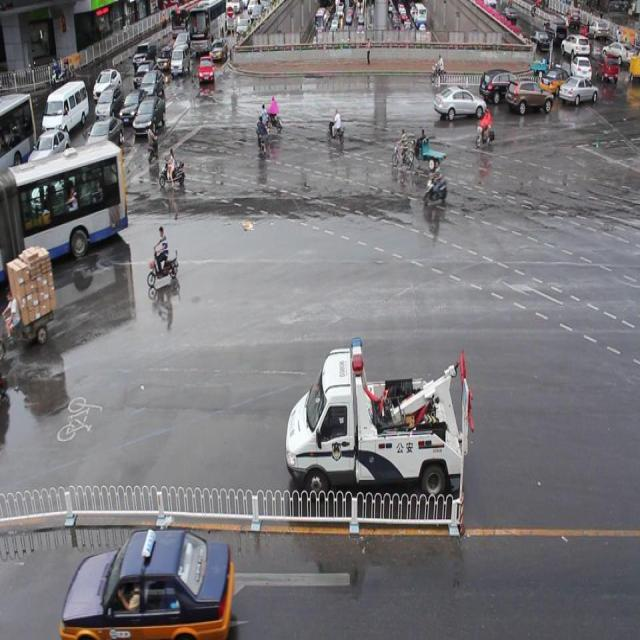bus: (285, 338, 464, 498)
car: (433, 84, 486, 121), (505, 76, 552, 114), (478, 69, 524, 104)
